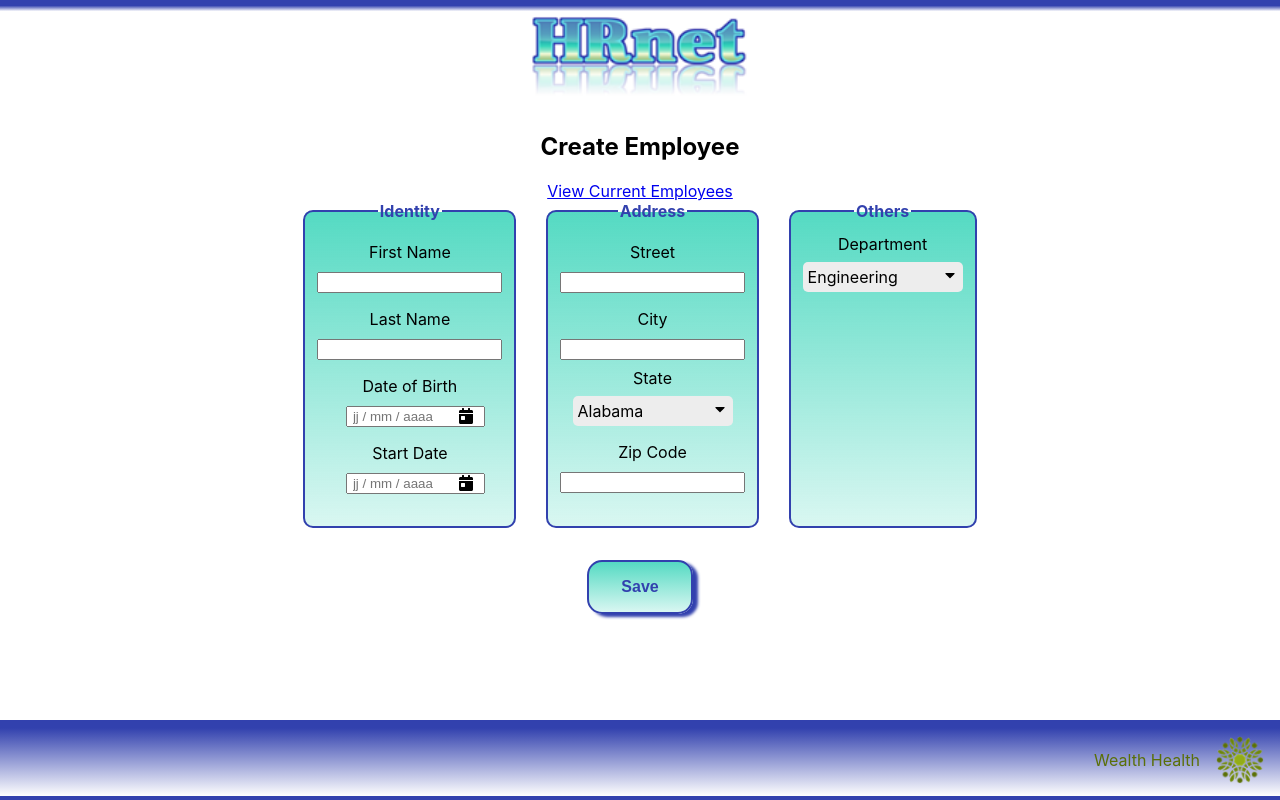
Scenario: EmployeeCreate component › render EmployeeList when clicked link
The image size is (1280, 800).
Click the link "View Current Employees" at (640, 191), box [547,181,733,201]
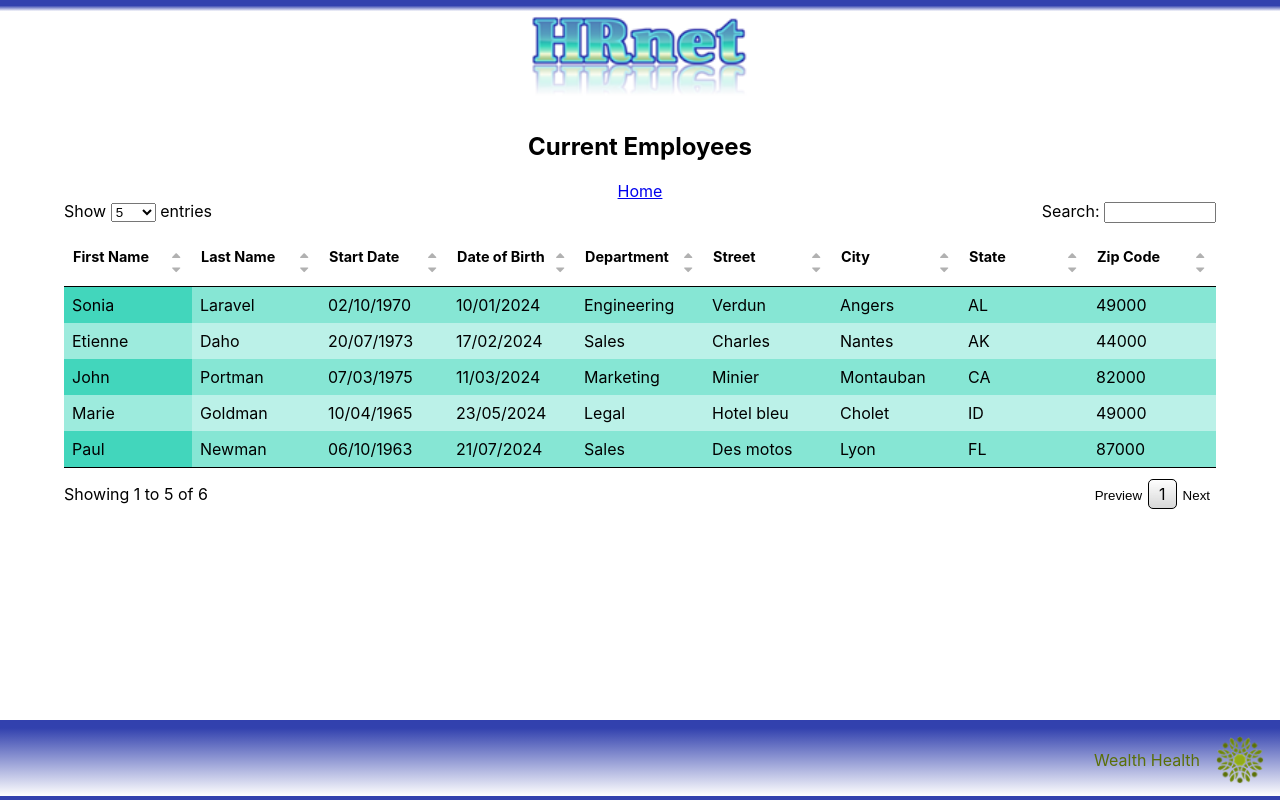
Result: the heading "Current Employees" is shown at [528,132,752,161]
